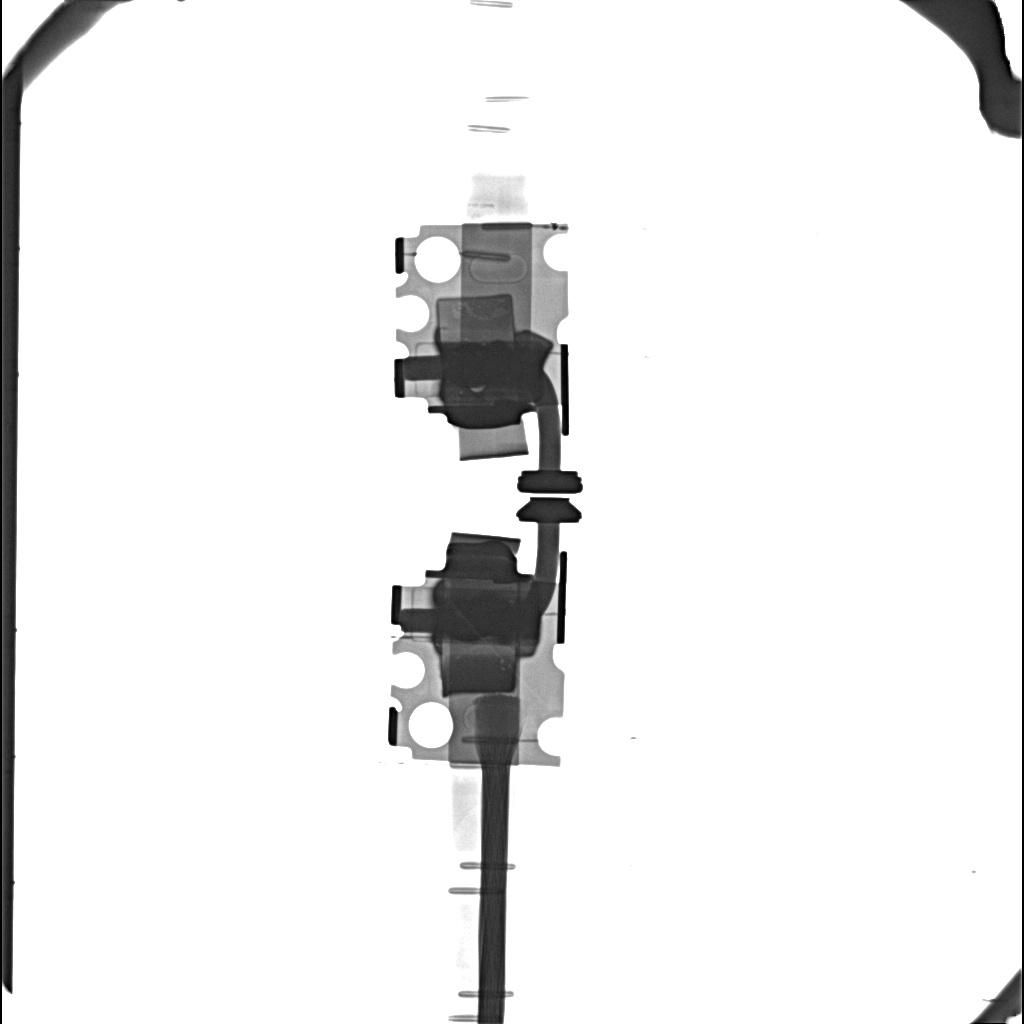defect: (440, 343, 547, 386), (436, 596, 541, 638), (439, 639, 517, 695), (437, 295, 515, 340), (471, 387, 486, 392)
